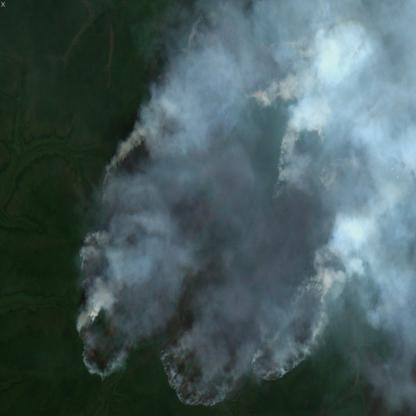fire: (73, 0, 393, 416)
